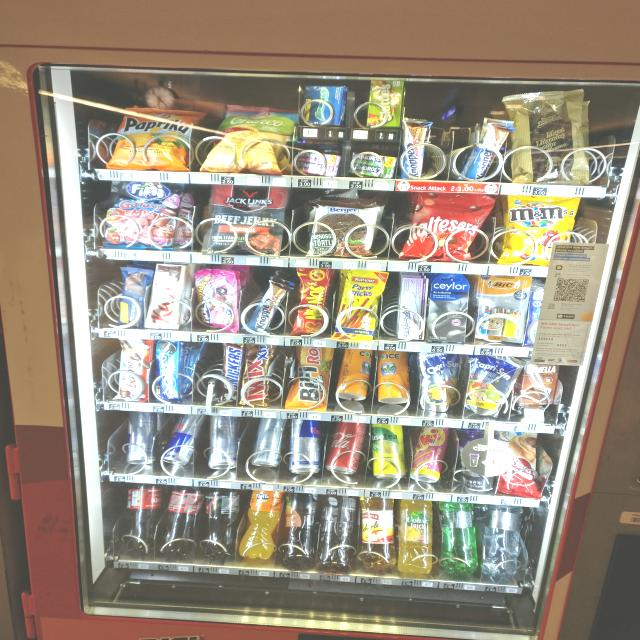7days_croissantschoko_packung_80_1_0000000000003: (499, 428, 541, 499)
airwaves_menthoneucalyptus_riegel_14_1_50173167: (308, 81, 351, 129)
bifi_roll__50__4251097402635: (292, 343, 328, 411)
bueno___43__4008400320328: (116, 336, 152, 402)
c-swiss_dosenabisicetea__33__9120025930135: (376, 347, 414, 407), (338, 346, 372, 402)
caferoyal_classicmacchiato__33__7617014164487: (459, 428, 499, 493)
caprisun_multivitamin__20__4000177605004: (470, 353, 513, 417), (418, 353, 462, 414)
coke__dose_33__54491472: (326, 421, 365, 476)
coke__flasche_50__54491472: (119, 480, 161, 554), (203, 484, 236, 558), (162, 483, 196, 554)
comella_schokodrink__33__7613100037253: (517, 359, 558, 413)
fanta___50__40822938: (241, 486, 281, 564)
fini_galaxymix_packung_100_1_8410525150364: (109, 181, 179, 249)
fini_jellykisses_packung_80_1_8410525116704: (193, 266, 240, 332)
fuse_lemon__50__5449000235947: (320, 494, 358, 568)
fuse_lemon_dose_33__5449000235947: (370, 423, 410, 482)
fuse_peach__50__5449000236623: (281, 491, 321, 564)
jacklinks_beefjerkyorginal__25__4047751730219: (206, 183, 289, 256)
jlbrichard_gauffre__90__5410495002000: (514, 95, 589, 185)
kagi___50__7610046000259: (149, 261, 182, 328)
knoppers_riegel____4035800488808: (464, 117, 506, 184), (243, 279, 289, 336), (399, 116, 428, 182)
lorenz_nicnacs__40__4018077798818: (293, 264, 331, 337)
malburner_partysticks__40__7610200279682: (336, 268, 384, 342)
maltesers___100__5000159023061: (409, 193, 488, 264)
mnms_gelb__45__40111445: (499, 192, 572, 268)
oreo___66__84100733: (154, 338, 186, 400)
powerbar_proteinplusschoko__55__4029679520028: (119, 265, 146, 325)
ramseier_schorle__50__7610057012456: (354, 495, 398, 570)
redbull___33__90162909: (156, 414, 201, 464), (288, 419, 323, 476), (208, 414, 242, 468), (252, 417, 282, 466), (123, 413, 151, 465)
skittles_sour_riegel_51_1_0000000000004: (364, 80, 408, 128)
snickers___50__5000159461122: (222, 338, 244, 404)
stimorol_spearmint_riegel_14_1_0000000000005: (349, 148, 398, 176)
stimorol_wildcherry_riegel_14_1_57060330: (299, 149, 341, 177)
tiki_himbeer_brause__50__00000000009342: (411, 424, 453, 484)
twix___50__5000159459228: (244, 342, 272, 407)
valser_classic__50__76404160: (436, 502, 477, 575)
valser_still__50__7610335002575: (478, 506, 519, 580)
volvic_pinapple__50__305764335648: (397, 500, 438, 576)
zweifel_graneochilli__100__7610095184009: (204, 100, 298, 169)
zweifel_paprika__90__7610095013002: (113, 105, 194, 168)
